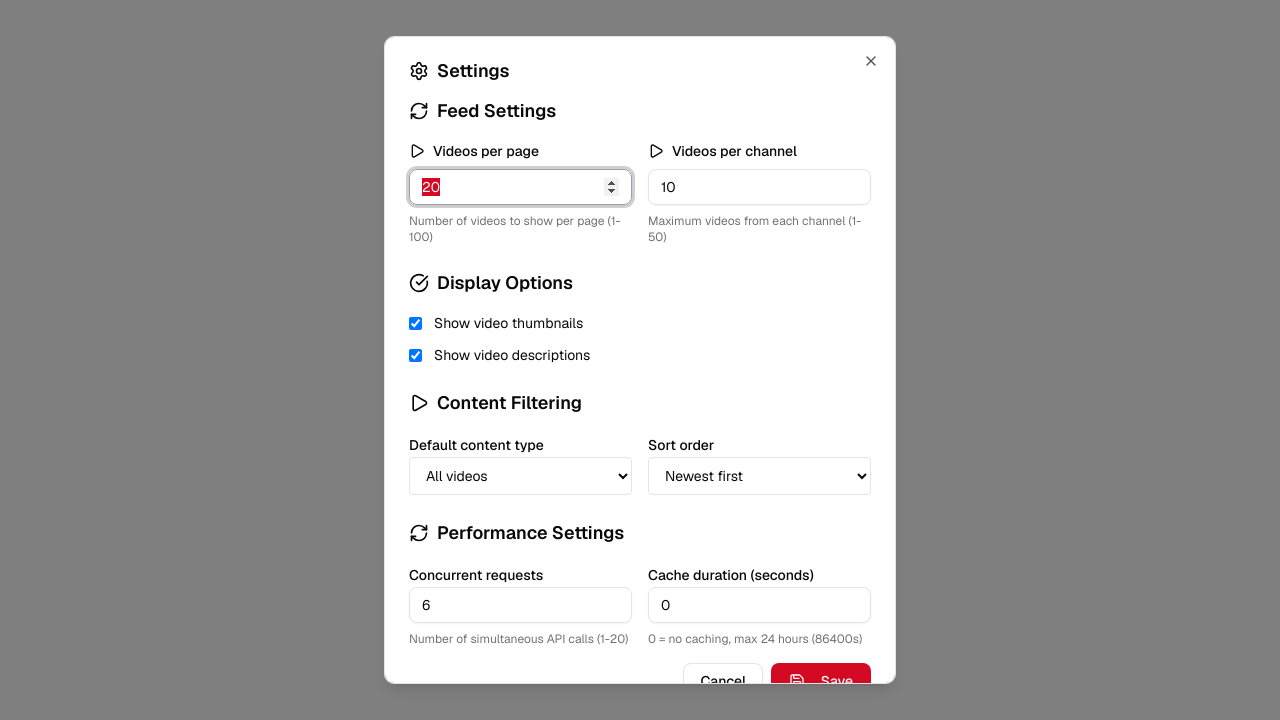
SettingsDialog › validates per_channel input
# Test invalid value (too high)
Replace the text in the number field labelled "Videos per channel" with "100" at coordinates (760, 187), box [648,169,871,205]
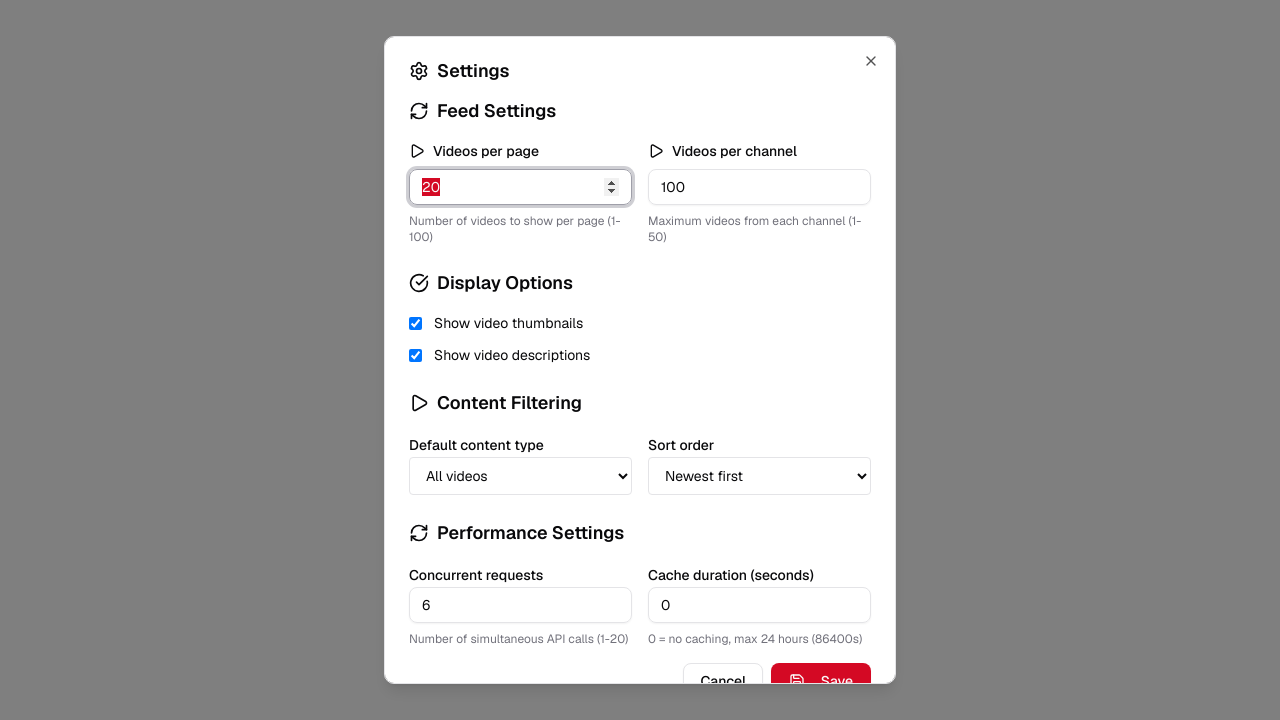
Click the button "Save" at coordinates (821, 681), box [771,663,871,699]
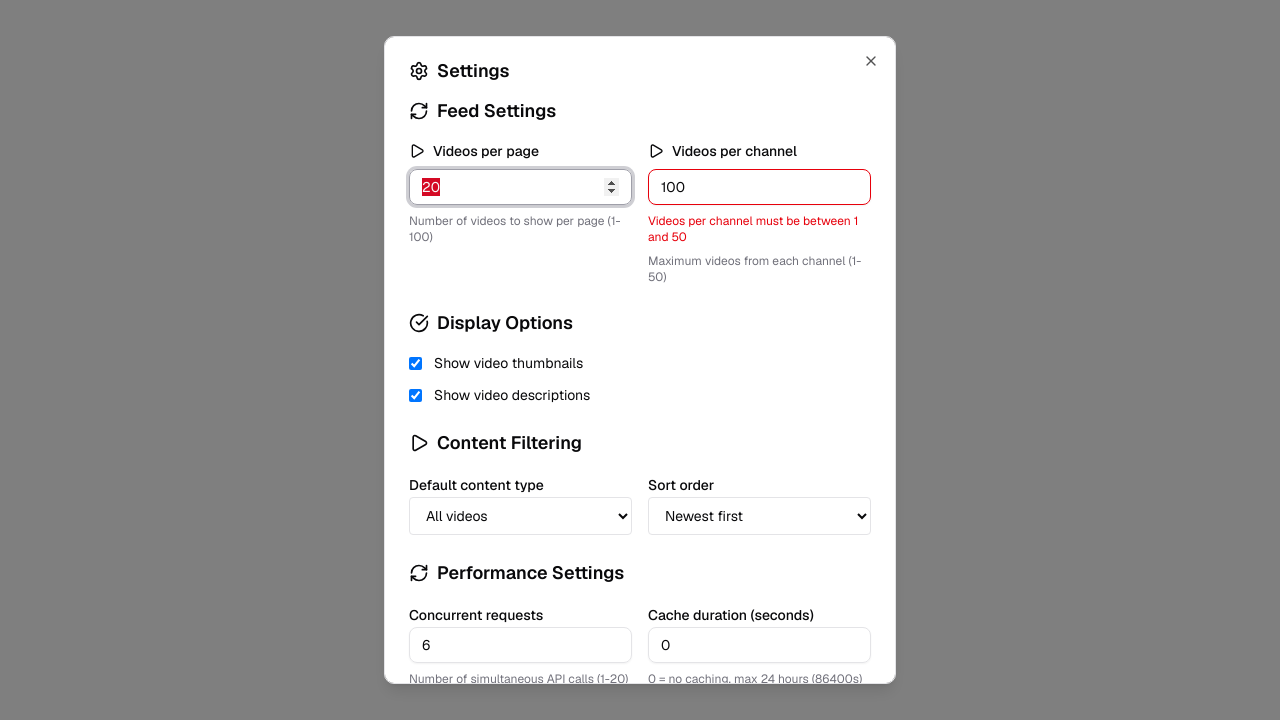
Check: the text "Videos per channel must be between 1 and 50" is shown, box [648,213,871,245]
